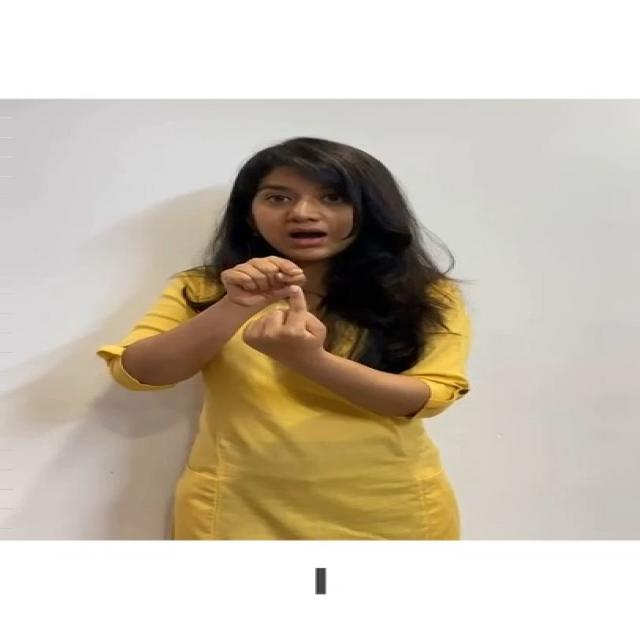I: (208, 249, 348, 375)
